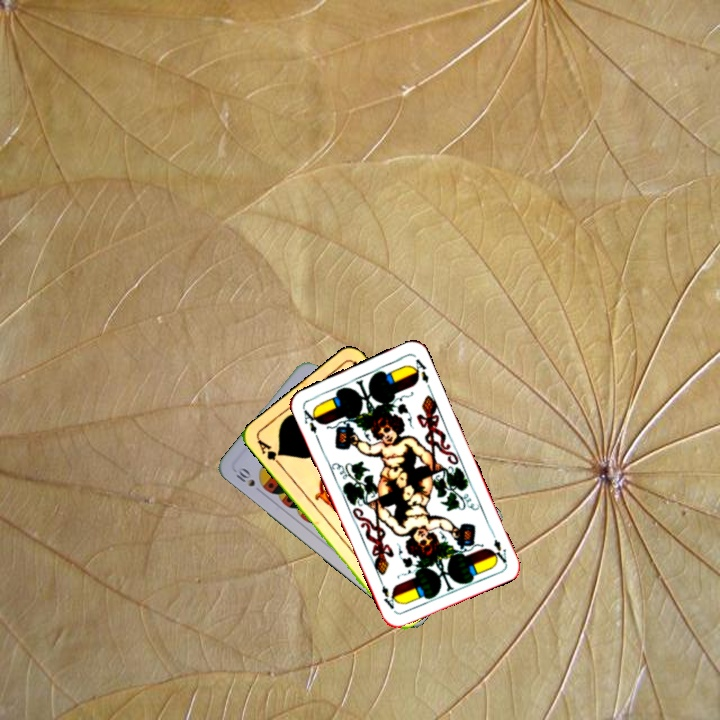EA: (298, 403, 322, 442), (488, 535, 509, 565)
GA: (253, 435, 285, 470)
S10: (231, 463, 258, 489)
